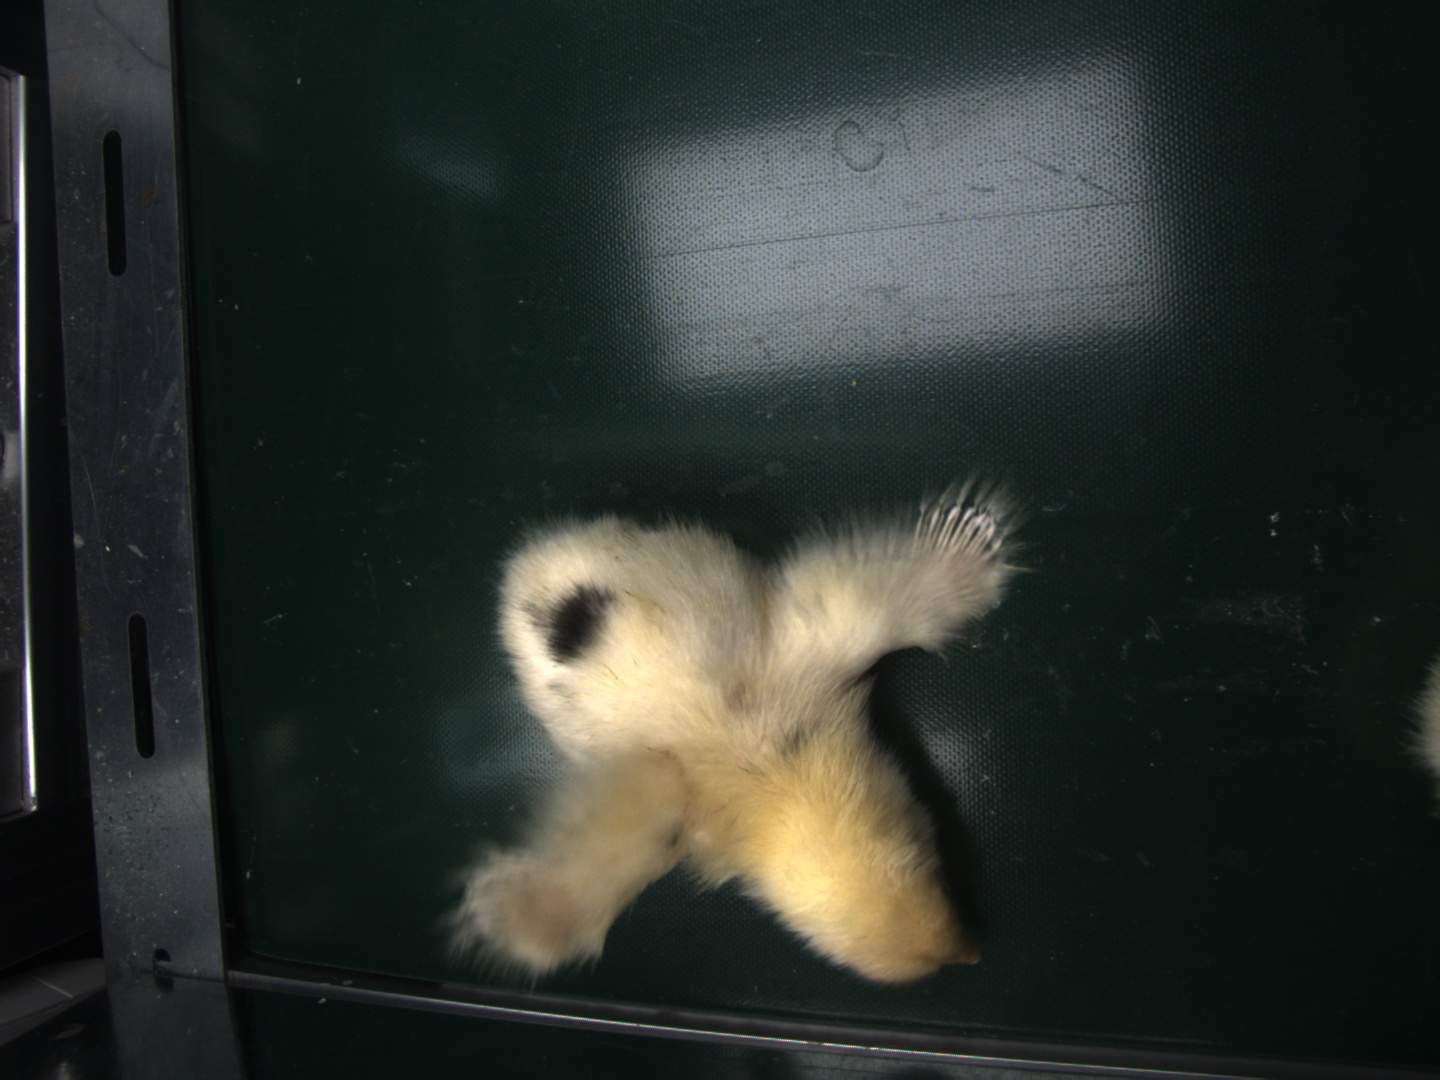male: (917, 508, 998, 560)
